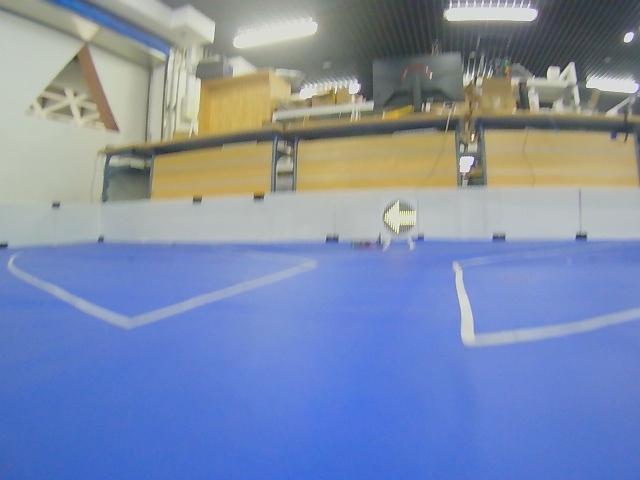left_yellow: (383, 200, 417, 234)
